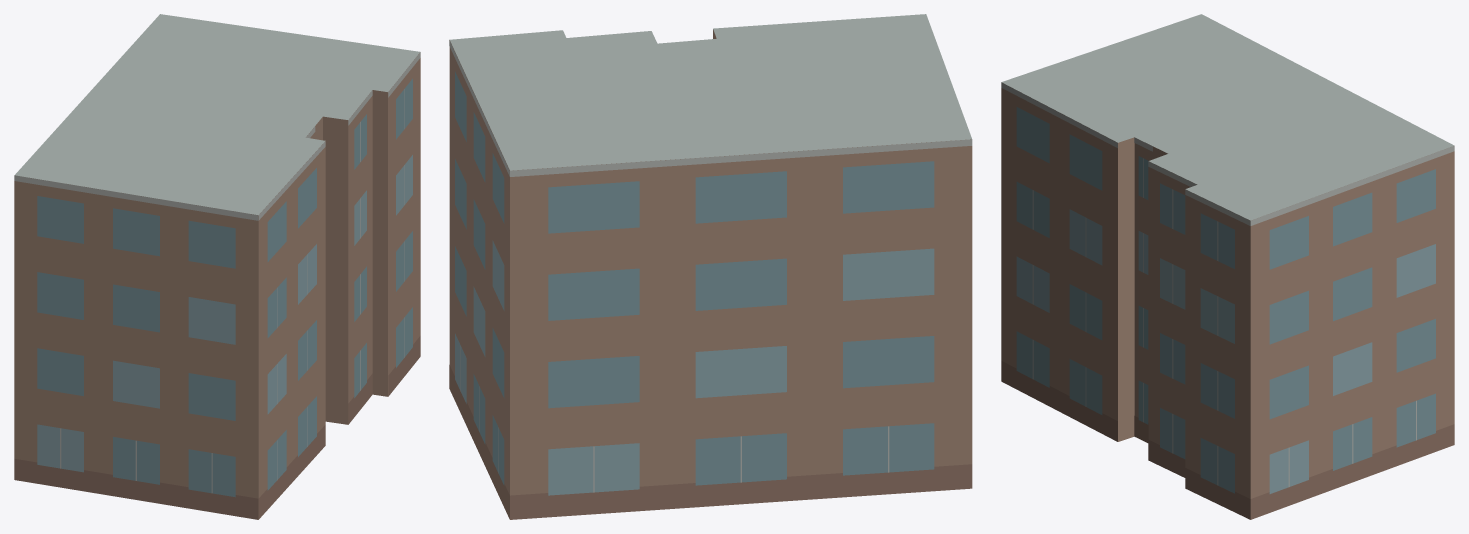
Rendered from survey-upis-32912001.glb.
The picture shows the model from 3 angles, left to right: view 1: azimuth 30°, elevation 25°; view 2: azimuth 150°, elevation 25°; view 3: azimuth 270°, elevation 25°; orthographic projection. The views are drawn at different scales.
Visible parts, largest first — view 1: survey-upis-32912001.tmp; view 2: survey-upis-32912001.tmp; view 3: survey-upis-32912001.tmp.
Part boxes in pixels (x1=…): survey-upis-32912001.tmp: x1=14, y1=14, x2=420, y2=519; survey-upis-32912001.tmp: x1=449, y1=14, x2=972, y2=519; survey-upis-32912001.tmp: x1=1001, y1=14, x2=1454, y2=519.
Size of the model in its own units: 19.4 by 13.1 by 17.99.
